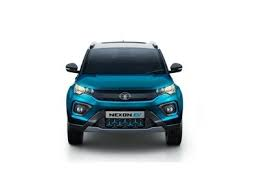Tata Nexon: (60, 35, 189, 152)
